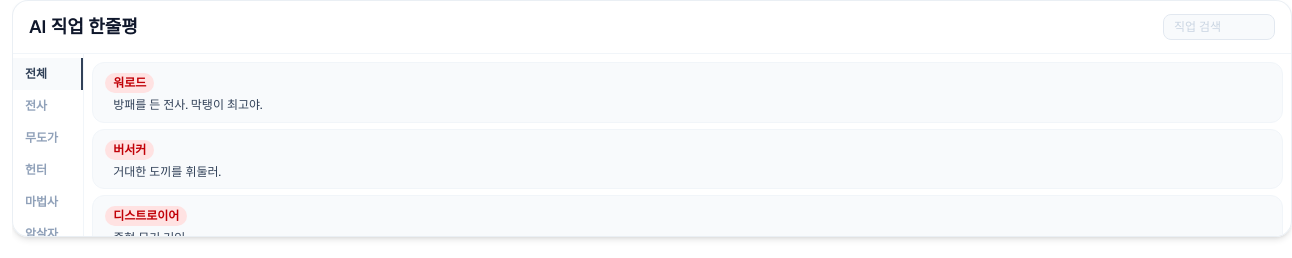
Test: ClassSummaryList › 여러 탭을 순차적으로 클릭할 수 있다
Click the button "전사".
click(48, 106)  # box x1=13 y1=90 x2=83 y2=122
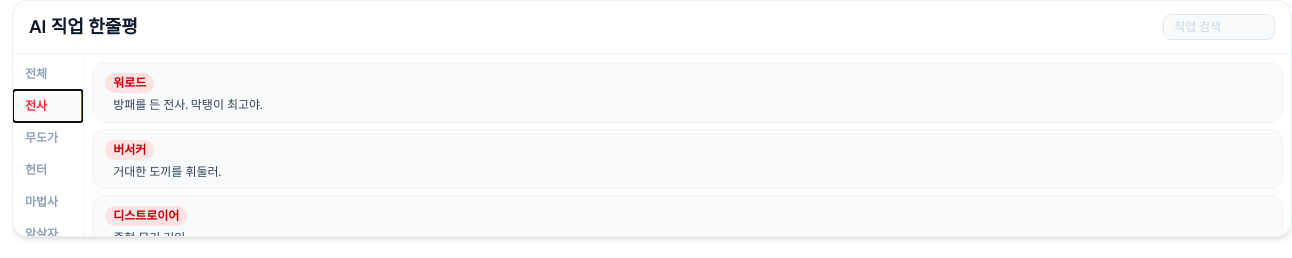
Expected: the text "워로드" is shown, x1=105 y1=73 x2=154 y2=93
Click the button "무도가".
click(48, 138)  # box x1=13 y1=122 x2=83 y2=154
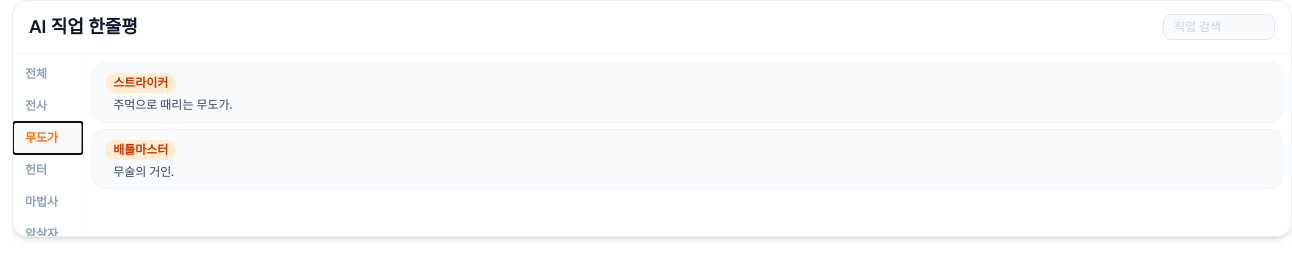
Expected: the text "워로드" is gone
Expected: the text "스트라이커" is shown, x1=105 y1=73 x2=176 y2=93
Click the button "마법사".
click(48, 202)  # box x1=13 y1=186 x2=83 y2=218
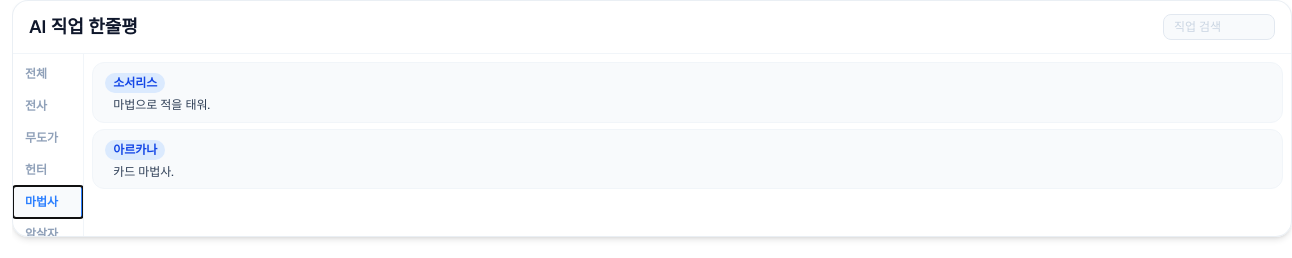
Expected: the text "스트라이커" is gone
Expected: the text "소서리스" is shown, x1=105 y1=73 x2=165 y2=93
